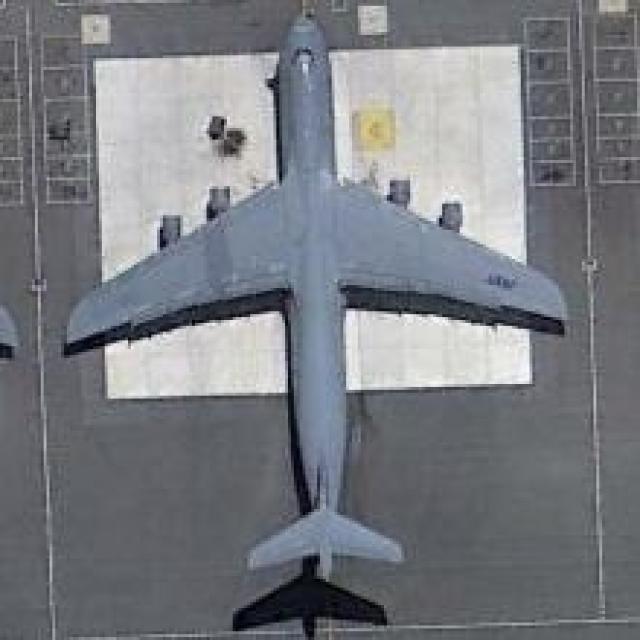C-5_TopDown: (58, 3, 567, 637)
